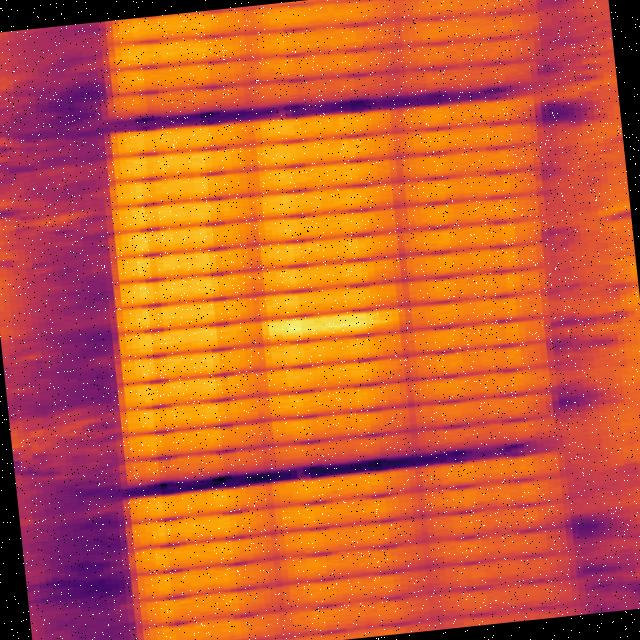Hotspot: (270, 308, 395, 339)
